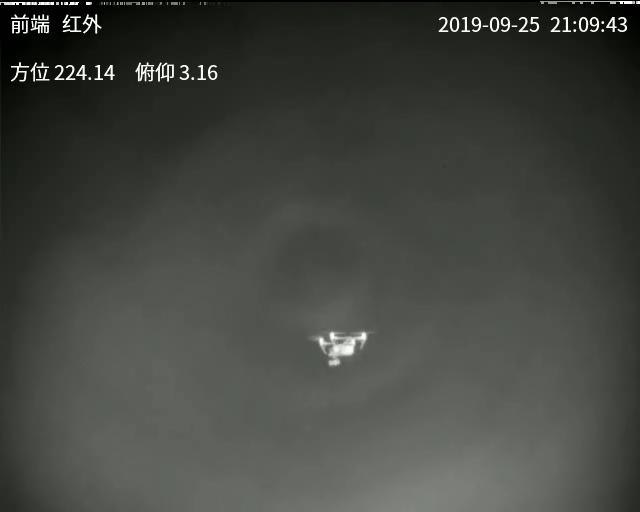uav: (314, 326, 370, 369)
